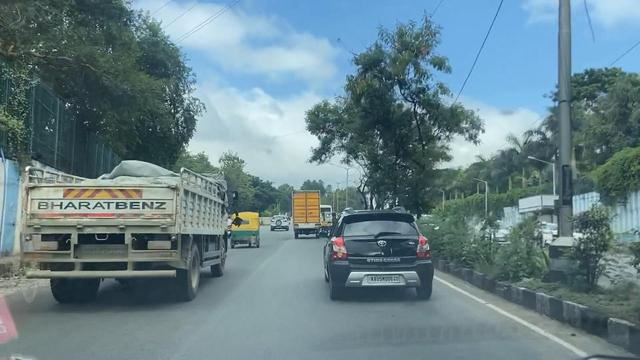HMV: (40, 168, 228, 296), (289, 188, 321, 237)
LMV: (326, 215, 436, 306)
